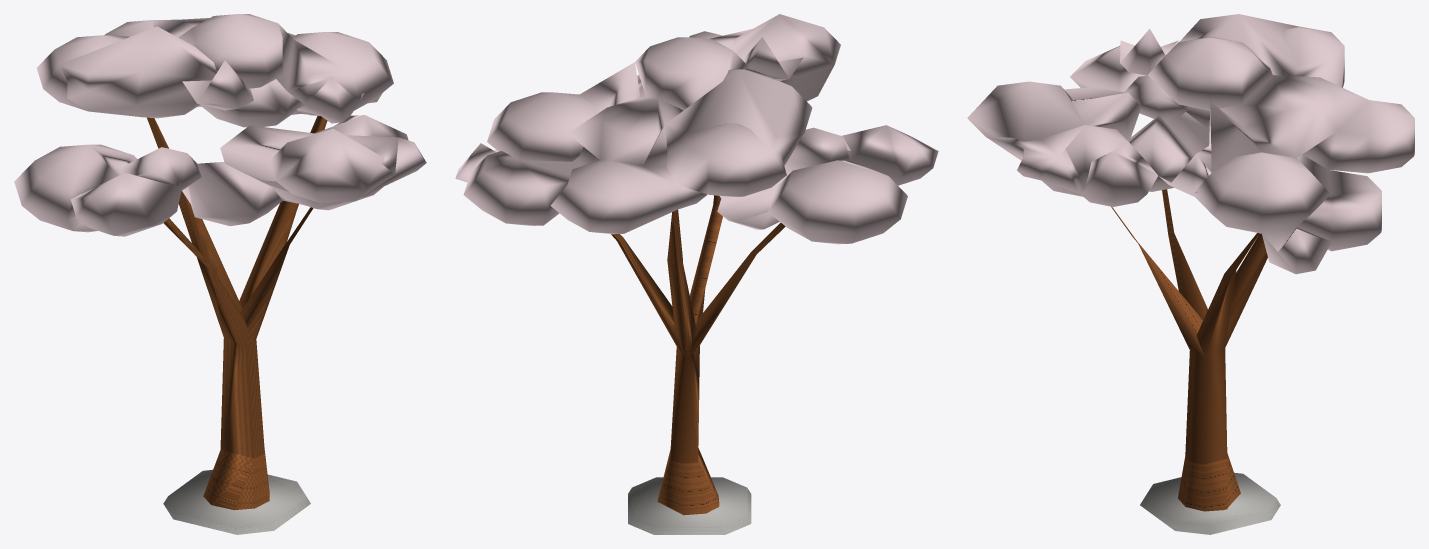
File: Tree.glb
The picture shows the model from 3 angles, left to right: view 1: azimuth 30°, elevation 25°; view 2: azimuth 150°, elevation 25°; view 3: azimuth 270°, elevation 25°; orthographic projection. The views are drawn at different scales.
Visible parts, largest first — view 1: cherry-tree-blossom; view 2: cherry-tree-blossom; view 3: cherry-tree-blossom.
Boxes of the visible parts, x1=… form: cherry-tree-blossom: x1=14, y1=14, x2=426, y2=534; cherry-tree-blossom: x1=455, y1=14, x2=938, y2=534; cherry-tree-blossom: x1=967, y1=14, x2=1414, y2=534.
Size of the model in its own units: 4 by 4.56 by 3.93.
3 materials, 2 textured.
